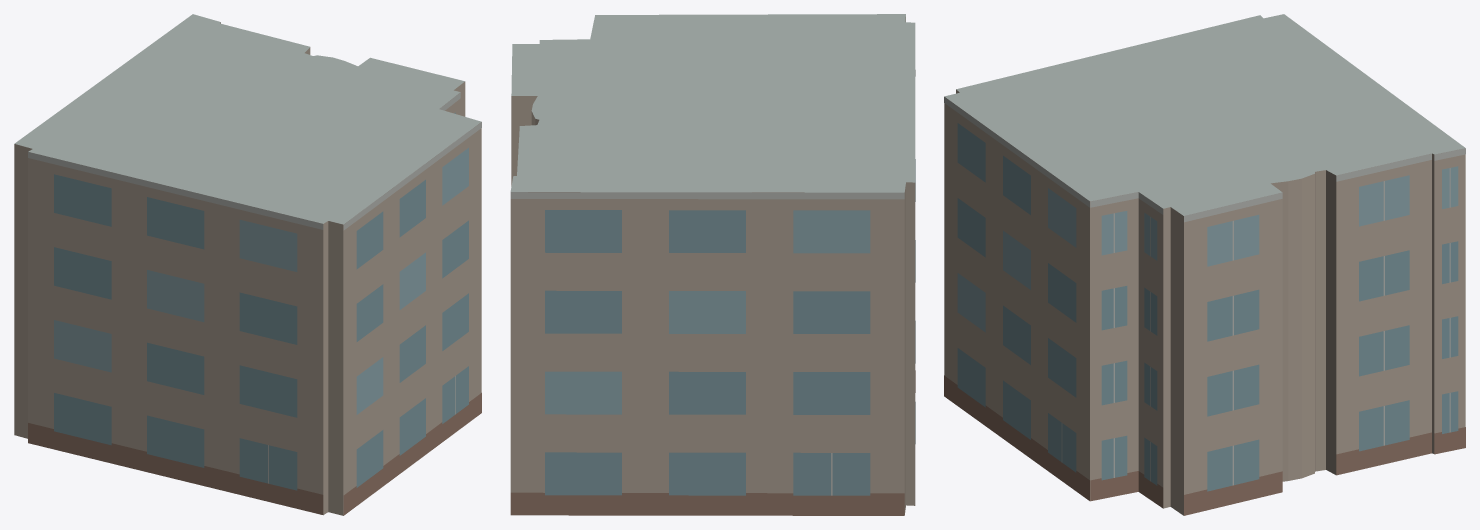
File: survey-upis-32612909.glb
3 renders of one model, left to right at view 1: azimuth 30°, elevation 25°; view 2: azimuth 150°, elevation 25°; view 3: azimuth 270°, elevation 25°, orthographic. The views are drawn at different scales.
Visible parts, largest first — view 1: survey-upis-32612909.tmp; view 2: survey-upis-32612909.tmp; view 3: survey-upis-32612909.tmp.
Part boxes in pixels (<box>): survey-upis-32612909.tmp: <box>14,14,481,515</box>; survey-upis-32612909.tmp: <box>510,14,915,515</box>; survey-upis-32612909.tmp: <box>944,14,1465,515</box>.
Size of the model in its own units: 16.63 by 11.5 by 18.14.
